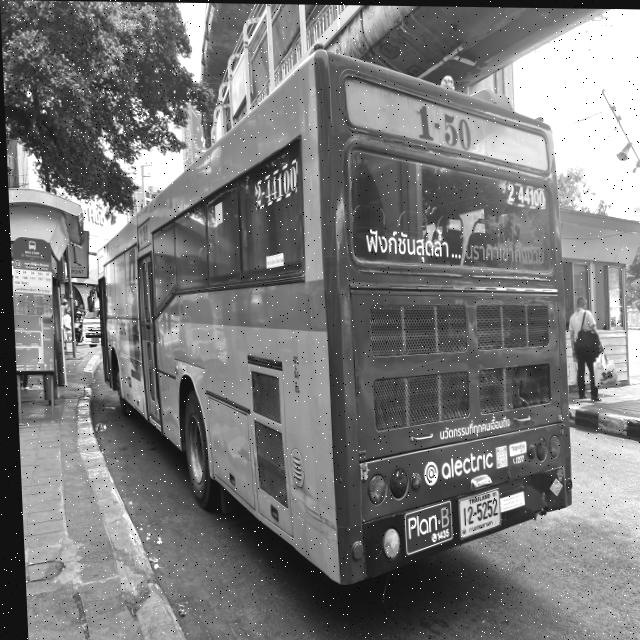BMTA-bus: (98, 50, 569, 590)
Bus Line Number: (404, 94, 484, 157)
Bus Side Number: (253, 158, 296, 212), (503, 177, 545, 207)
